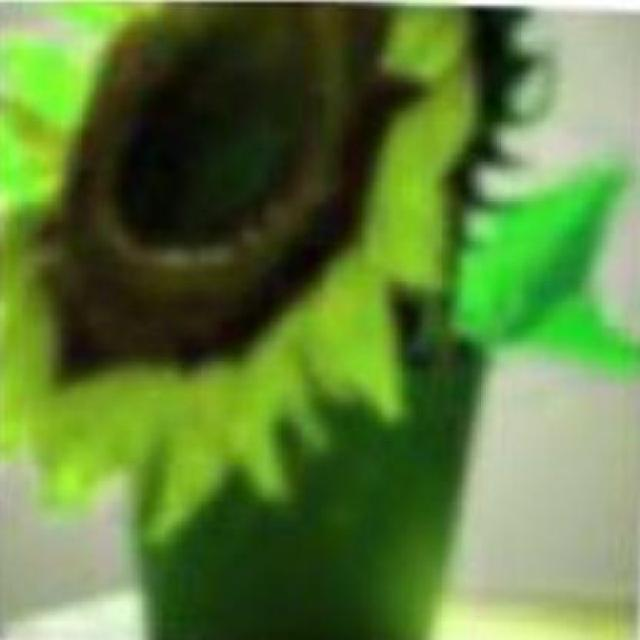sunflower: (0, 0, 469, 502)
